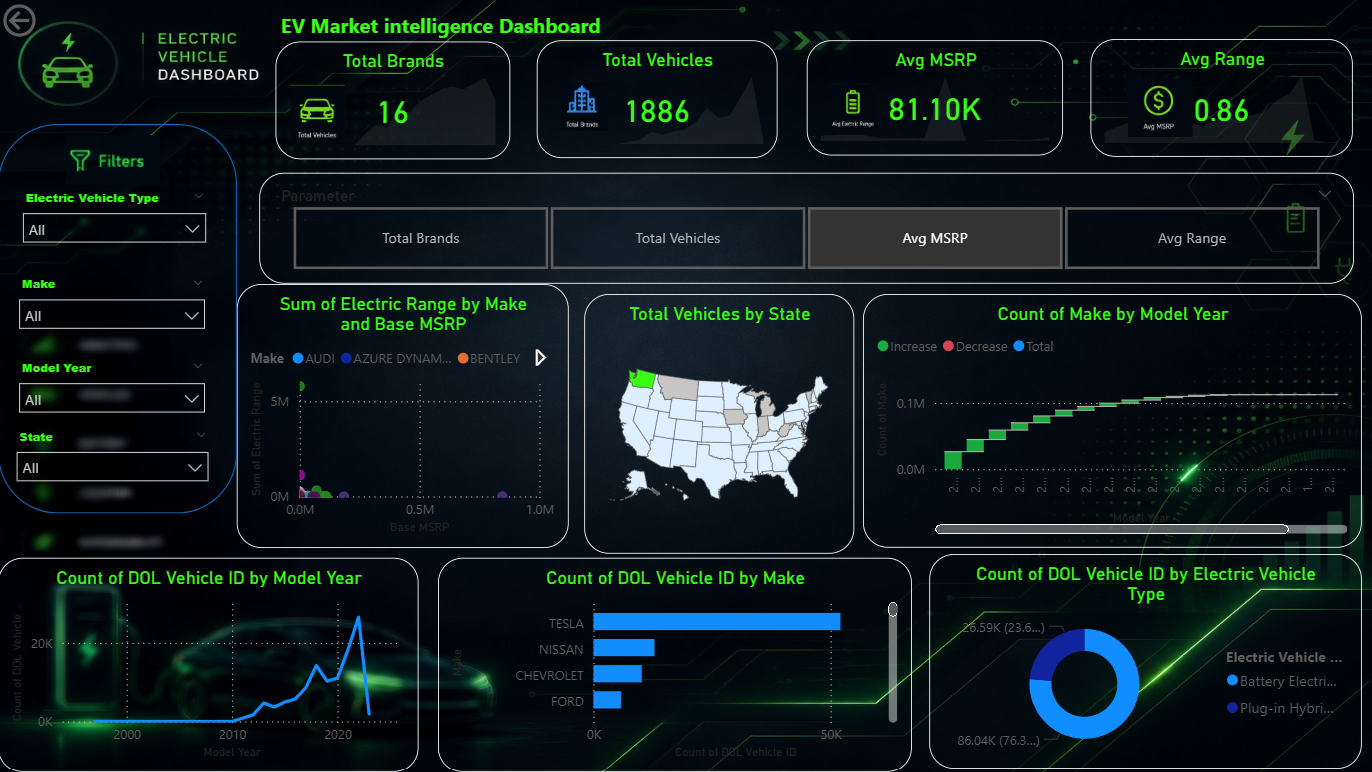

This screenshot's page, from the dashboard's own definition file:
{"tool":"powerbi","page":{"name":"Main Dashboard","canvas":[1280,720],"ordinal":0},"visuals":[{"type":"kpi","title":"Total Vehicles","fields":{"Indicator":["Electric_Vehicle_Population_Data.Total Vehicles"],"TrendLine":["Electric_Vehicle_Population_Data.Model Year"]},"box":[500.9,38.4,223.7,109.8],"z":0},{"type":"kpi","title":"Total Brands","fields":{"Indicator":["Electric_Vehicle_Population_Data.Total Brands"],"TrendLine":["Electric_Vehicle_Population_Data.Model Year"]},"box":[258,39.8,218.2,109.8],"z":1000},{"type":"kpi","title":"Avg MSRP ","fields":{"Indicator":["Electric_Vehicle_Population_Data.Avg MSRP"],"TrendLine":["Electric_Vehicle_Population_Data.Model Year"]},"box":[752,38.4,238.8,107],"z":2000},{"type":"kpi","title":"Avg Range ","fields":{"Indicator":["Electric_Vehicle_Population_Data.Avg Range"],"TrendLine":["Electric_Vehicle_Population_Data.Model Year"]},"box":[1016.8,37,244.3,109.8],"z":3000},{"type":"lineChart","fields":{"Category":["Electric_Vehicle_Population_Data.Model Year"],"Y":["CountNonNull(Electric_Vehicle_Population_Data.DOL Vehicle ID)"]},"box":[0,520.1,391.1,200.3],"z":4000},{"type":"donutChart","fields":{"Category":["Electric_Vehicle_Population_Data.Electric Vehicle Type"],"Y":["CountNonNull(Electric_Vehicle_Population_Data.DOL Vehicle ID)"]},"box":[865.9,516,402.1,200.3],"z":5000},{"type":"clusteredBarChart","fields":{"Category":["Electric_Vehicle_Population_Data.Make"],"Y":["CountNonNull(Electric_Vehicle_Population_Data.DOL Vehicle ID)"]},"box":[408.9,520.1,440.5,200.3],"z":6000},{"type":"shapeMap","fields":{"Category":["Electric_Vehicle_Population_Data.State"],"Value":["Electric_Vehicle_Population_Data.Total Vehicles"]},"box":[544.8,274.4,251.1,241.5],"z":7000},{"type":"scatterChart","fields":{"Y":["Sum(Electric_Vehicle_Population_Data.Electric Range)"],"X":["Electric_Vehicle_Population_Data.Base MSRP"],"Series":["Electric_Vehicle_Population_Data.Make"]},"box":[222.3,264.8,308.7,245.6],"z":8000},{"type":"image","box":[271.7,78.2,50.8,54.9],"z":9000},{"type":"image","box":[522.8,67.2,43.9,65.9],"z":10000},{"type":"image","box":[773.9,61.7,42.5,76.8],"z":11000},{"type":"image","box":[1048.4,72.7,64.5,54.9],"z":12000},{"type":"shape","box":[0,116.6,222.3,362.3],"z":13000},{"type":"textbox","box":[258,6.9,325.2,38.4],"z":14000},{"type":"slicer","fields":{"Values":["Electric_Vehicle_Population_Data.Electric Vehicle Type"]},"box":[12.3,171.5,190.7,81],"z":15000},{"type":"slicer","fields":{"Values":["Electric_Vehicle_Population_Data.Make"]},"box":[9.6,252.5,193.5,75.5],"z":16000},{"type":"slicer","fields":{"Values":["Electric_Vehicle_Population_Data.Model Year"]},"box":[9.6,330.7,193.5,57.6],"z":17000},{"type":"slicer","fields":{"Values":["Electric_Vehicle_Population_Data.State"]},"box":[6.9,393.8,199,76.8],"z":18000},{"type":"waterfallChart","fields":{"Category":["Electric_Vehicle_Population_Data.Model Year","Electric_Vehicle_Population_Data.DOL Vehicle ID"],"Y":["CountNonNull(Electric_Vehicle_Population_Data.Make)"]},"box":[804.1,274.4,463.8,236],"z":20000},{"type":"actionButton","box":[0,0,100,40],"z":21000},{"type":"slicer","fields":{"Values":["Parameter.Parameter"]},"box":[242.9,161.9,1018.2,102.9],"z":22000},{"type":"image","box":[35.6,127,141.2,46.3],"z":22001}]}

Visuals, with their boxes in screenshot pixels (x1, y1, x2, y2), scaled from the page's 1280x720 canvas onto the 1372x772 screenshot:
"Total Vehicles" kpi: bbox=[537, 41, 777, 159]
"Total Brands" kpi: bbox=[277, 43, 510, 160]
"Avg MSRP " kpi: bbox=[806, 41, 1062, 156]
"Avg Range " kpi: bbox=[1090, 40, 1352, 157]
lineChart - Electric_Vehicle_Population_Data.Model Year x CountNonNull(Electric_Vehicle_Population_Data.DOL Vehicle ID): bbox=[0, 558, 419, 771]
donutChart - Electric_Vehicle_Population_Data.Electric Vehicle Type x CountNonNull(Electric_Vehicle_Population_Data.DOL Vehicle ID): bbox=[928, 553, 1359, 768]
clusteredBarChart - Electric_Vehicle_Population_Data.Make x CountNonNull(Electric_Vehicle_Population_Data.DOL Vehicle ID): bbox=[438, 558, 910, 771]
shapeMap - Electric_Vehicle_Population_Data.State x Electric_Vehicle_Population_Data.Total Vehicles: bbox=[584, 294, 853, 553]
scatterChart - Sum(Electric_Vehicle_Population_Data.Electric Range) x Electric_Vehicle_Population_Data.Base MSRP: bbox=[238, 284, 569, 547]
image: bbox=[291, 84, 346, 143]
image: bbox=[560, 72, 607, 143]
image: bbox=[830, 66, 875, 149]
image: bbox=[1124, 78, 1193, 137]
shape: bbox=[0, 125, 238, 513]
textbox: bbox=[277, 7, 625, 49]
slicer - Electric_Vehicle_Population_Data.Electric Vehicle Type: bbox=[13, 184, 218, 271]
slicer - Electric_Vehicle_Population_Data.Make: bbox=[10, 271, 218, 352]
slicer - Electric_Vehicle_Population_Data.Model Year: bbox=[10, 355, 218, 416]
slicer - Electric_Vehicle_Population_Data.State: bbox=[7, 422, 221, 505]
waterfallChart - Electric_Vehicle_Population_Data.Model Year x Electric_Vehicle_Population_Data.DOL Vehicle ID: bbox=[862, 294, 1359, 547]
actionButton: bbox=[0, 0, 107, 43]
slicer - Parameter.Parameter: bbox=[260, 174, 1352, 284]
image: bbox=[38, 136, 190, 186]
